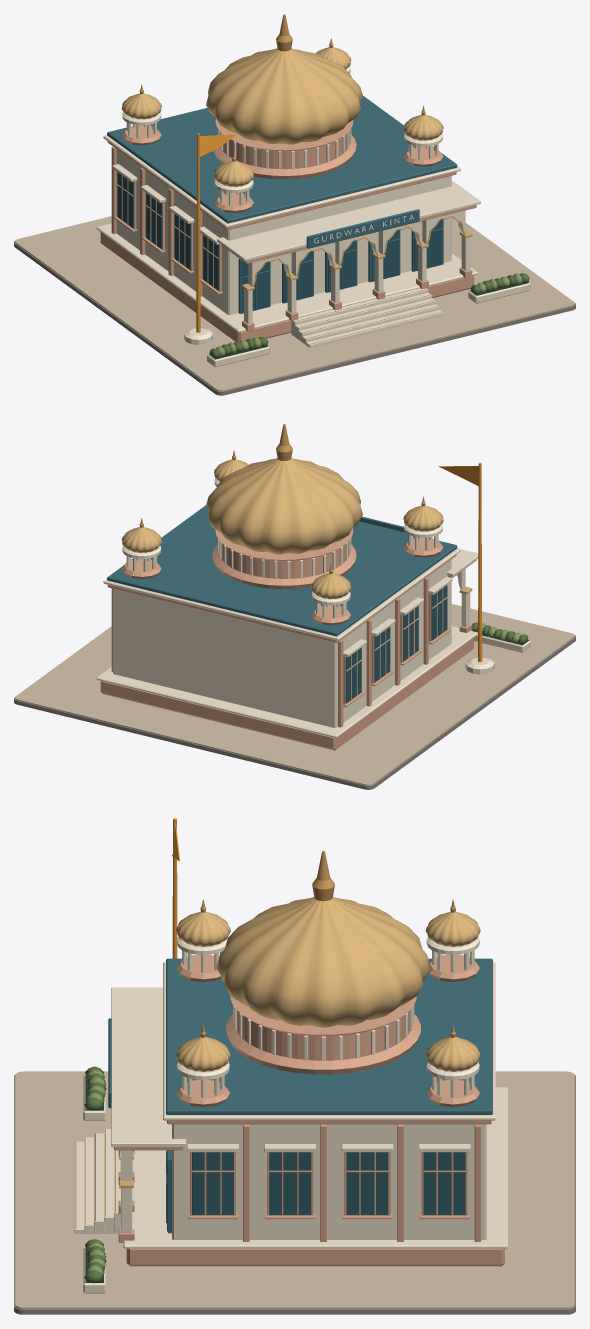
3 renders of one model, top to bottom at view 1: azimuth 30°, elevation 25°; view 2: azimuth 150°, elevation 25°; view 3: azimuth 270°, elevation 25°, orthographic. The views are drawn at different scales.
Parts seen in each view (by area): view 1: Prayer Hall, Flag Court, Lotus Dome, Cusped Front Verandah; view 2: Prayer Hall, Flag Court, Lotus Dome, Cusped Front Verandah; view 3: Prayer Hall, Flag Court, Lotus Dome, Cusped Front Verandah.
Part boxes in pixels (x1,y1,x2,y2): Prayer Hall: (96,96,477,342); Flag Court: (14,133,575,395); Lotus Dome: (121,14,443,212); Cusped Front Verandah: (217,181,480,331); Prayer Hall: (96,505,477,750); Flag Court: (14,462,575,789); Lotus Dome: (121,424,443,625); Cusped Front Verandah: (360,516,478,632); Prayer Hall: (123,958,507,1266); Flag Court: (14,818,575,1314); Lotus Dome: (176,851,480,1107); Cusped Front Verandah: (108,987,186,1242).
Size of the model in its own units: 23.8 by 16.09 by 23.8.
